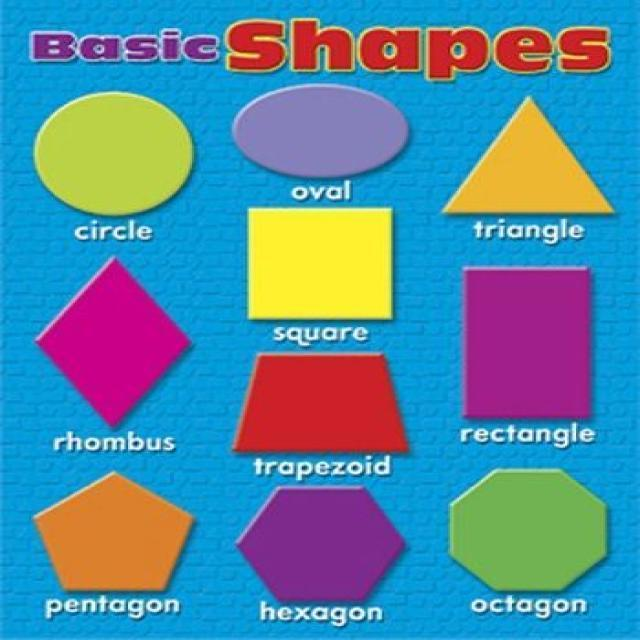circle: (6, 75, 238, 258), (223, 73, 439, 204)
square: (230, 186, 422, 350)
triangle: (431, 70, 638, 250)
